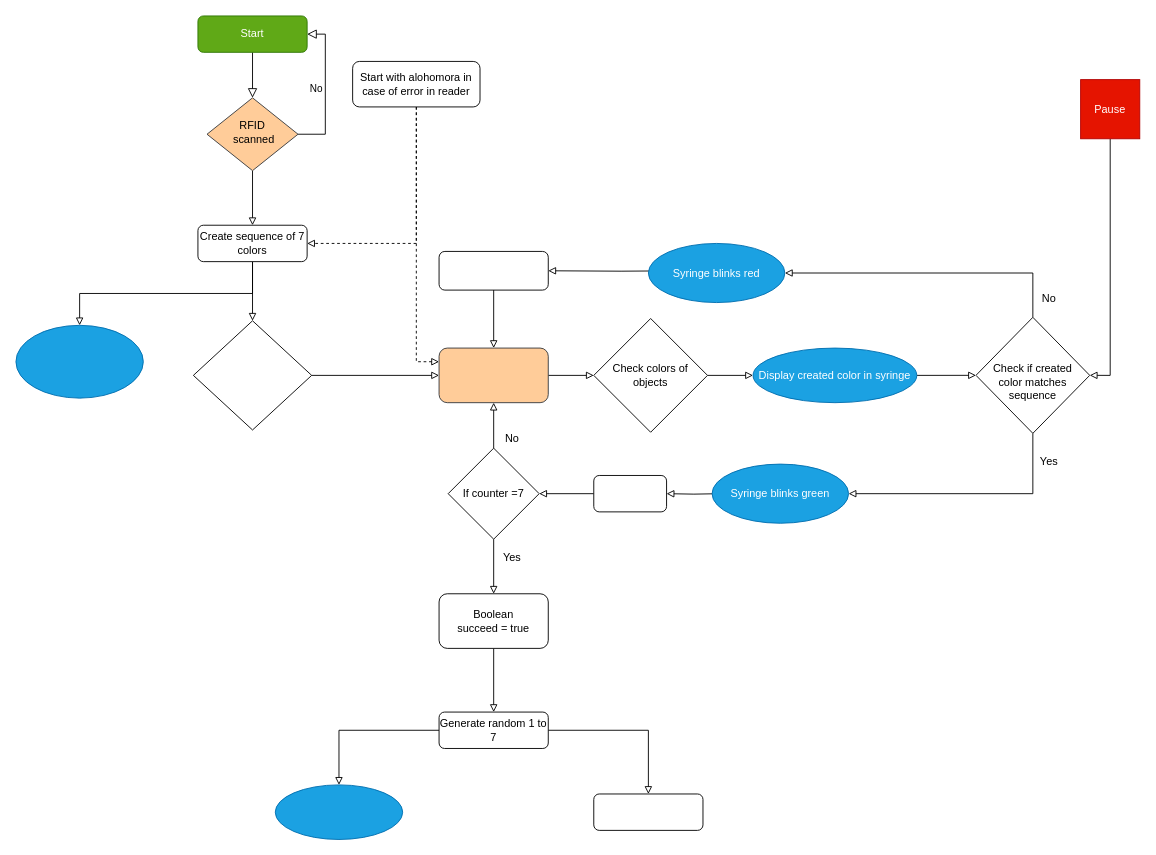
Image size: 1156x855. Some labels were removed from this diagram. Each missing label, with the centre of its shape:
Buttons pressed: point 493,375
Counter +1: point 630,493
Display number by lighting up test tubes: point 338,811
Put counter to 0 (return to color 0): point 493,270
Send random to alohomora: point 648,811
Show sequence by lighting up test tubes: point 79,361
Signal sent to other esp32 (reciever): point 252,375
